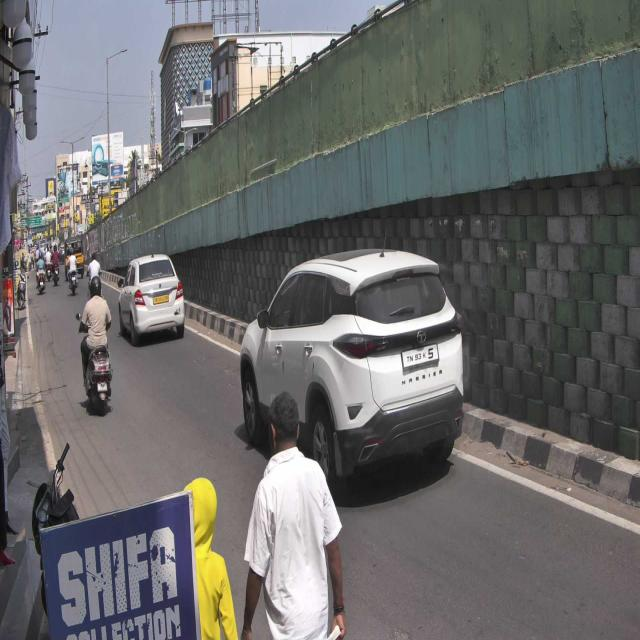single_rider: (75, 273, 115, 415)
